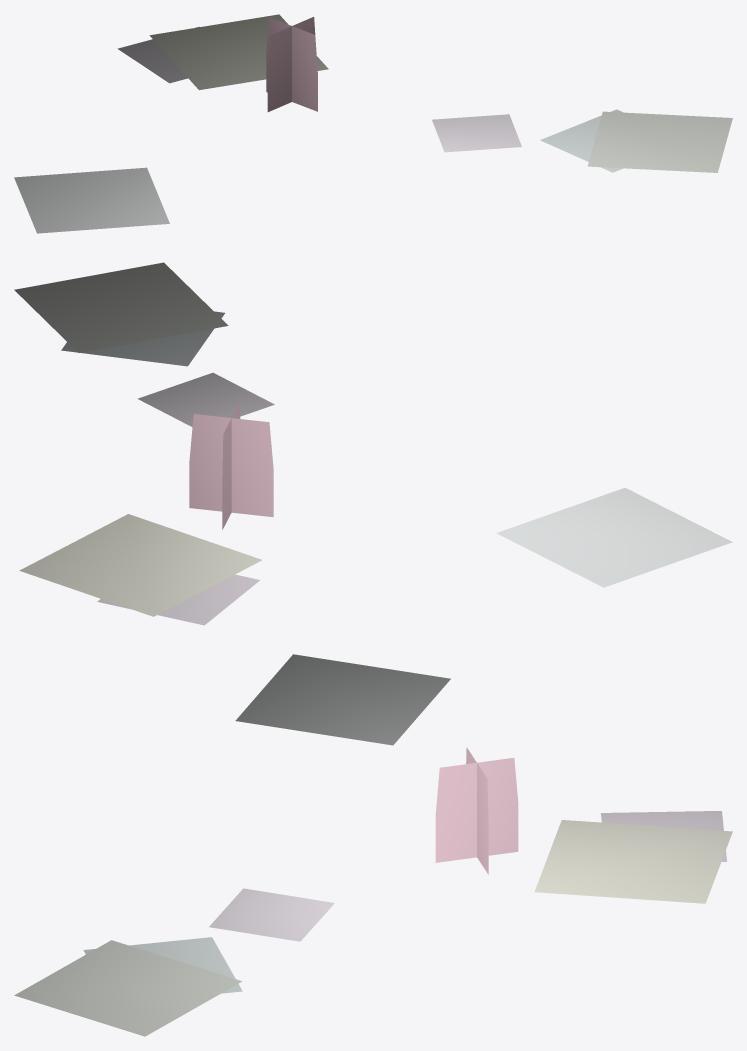
File: lily_0.glb
The picture shows the model from 3 angles, top to bottom: view 1: azimuth 30°, elevation 25°; view 2: azimuth 150°, elevation 25°; view 3: azimuth 270°, elevation 25°; orthographic projection. The views are drawn at different scales.
Parts seen in each view (by area): view 1: lily_0; view 2: lily_0; view 3: lily_0.
Boxes of the visible parts, x1=… form: lily_0: x1=14, y1=14, x2=732, y2=233; lily_0: x1=14, y1=262, x2=732, y2=625; lily_0: x1=14, y1=654, x2=732, y2=1036.
Size of the model in its own units: 1.05 by 0.12 by 0.8261.
